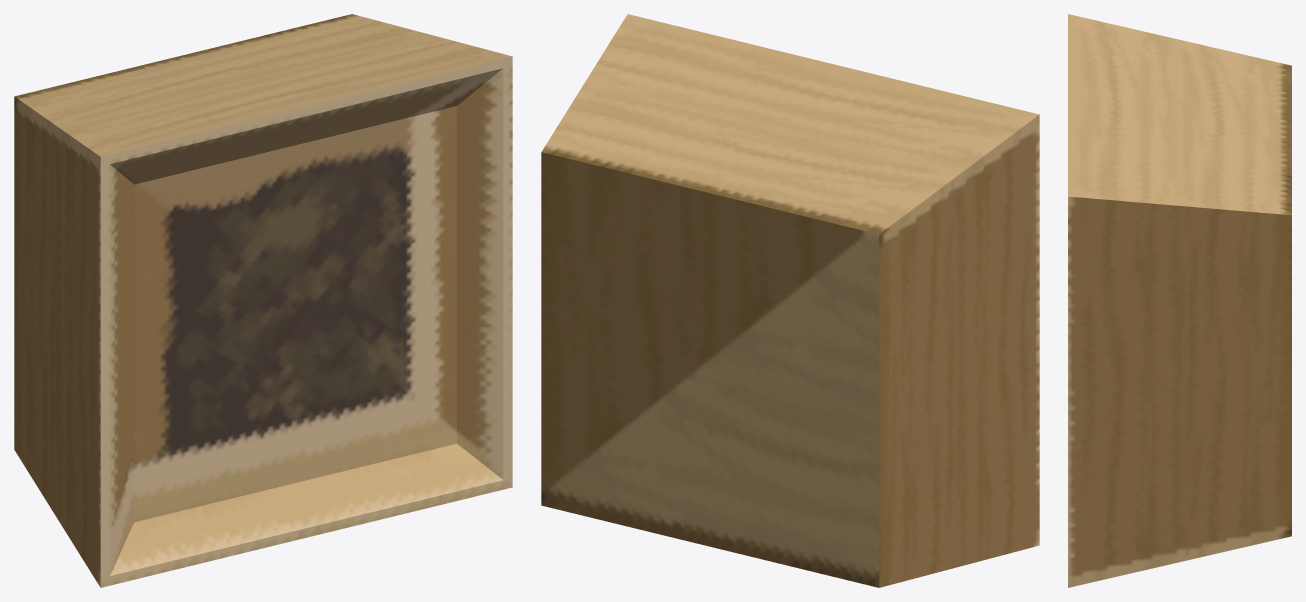
File: pz_plant_native_32.obj
3 renders of one model, left to right at view 1: azimuth 30°, elevation 25°; view 2: azimuth 150°, elevation 25°; view 3: azimuth 270°, elevation 25°, orthographic. The views are drawn at different scales.
Parts seen in each view (by area): view 1: pot_soil_and_rim; view 2: pot_soil_and_rim; view 3: pot_soil_and_rim.
Part boxes in pixels (box(x1,y1,x2,y2)): pot_soil_and_rim: box(14, 14, 512, 587); pot_soil_and_rim: box(541, 14, 1039, 587); pot_soil_and_rim: box(1068, 14, 1291, 587).
Size of the model in its own units: 0.54 by 0.54 by 0.28.
